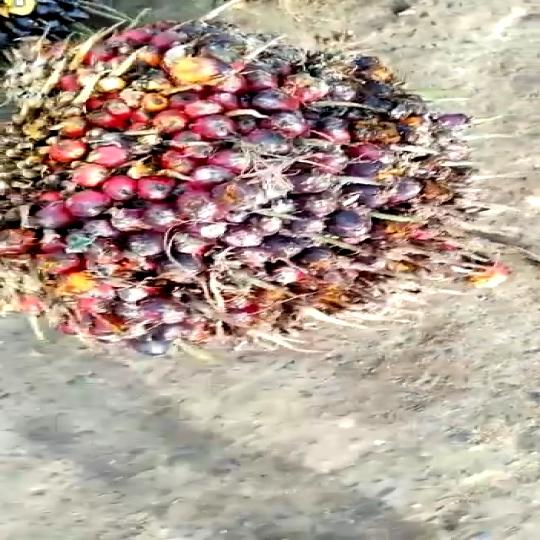masak: (10, 23, 508, 342)
